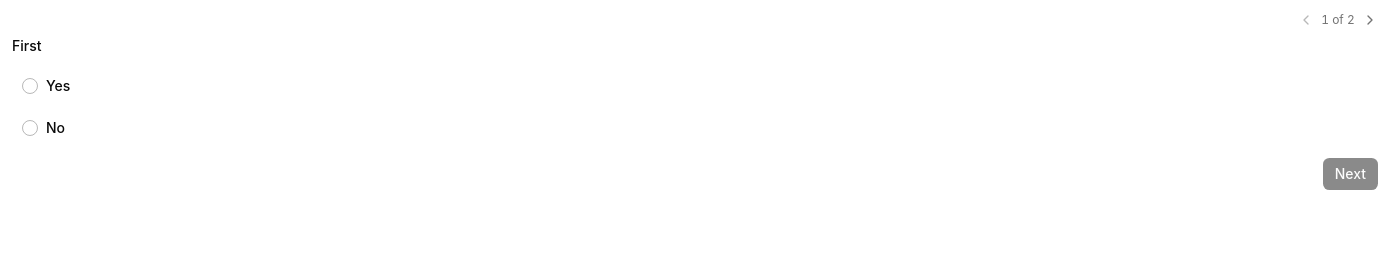
Test case: TaskChatComposer › composer takeovers › single-choice selection stays on the page › clears a missing-answer complaint once that question is answered
The image size is (1390, 253).
Step 1. Click the button named "Next question" → (1370, 20), box [1362,12,1378,28]
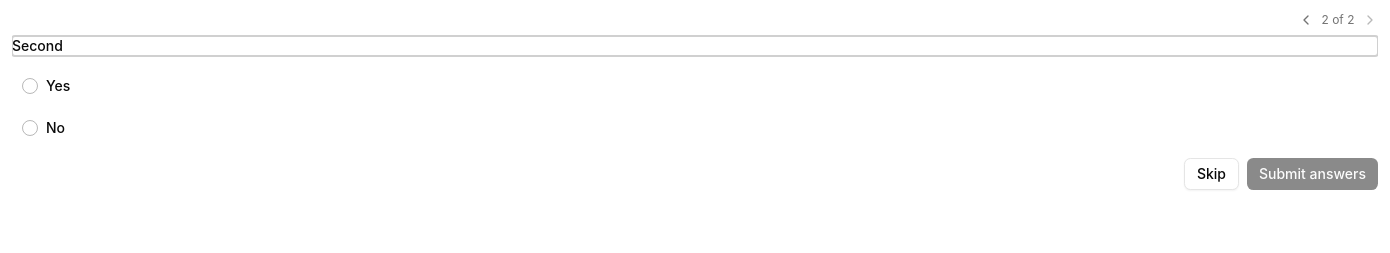
Step 2. Click the button "Skip" → (1211, 174), box [1184,158,1239,190]
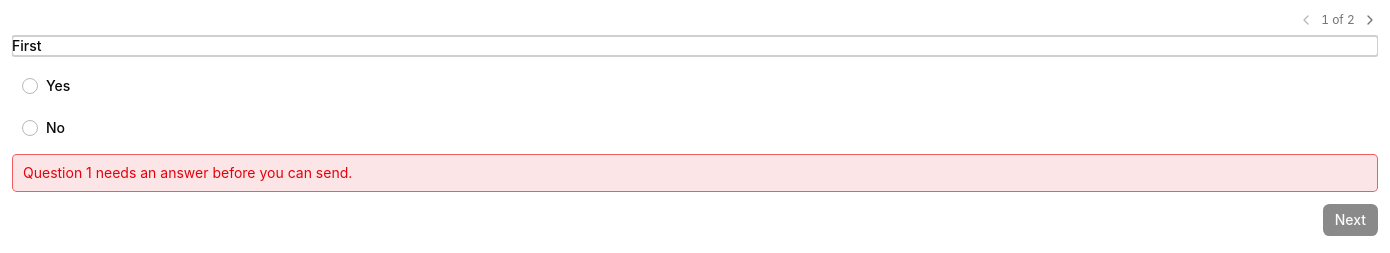
Expected: the text "Question 1 needs an answer" is shown, [23,164,352,181]
Step 3. Click the radio button labelled "Yes" → (30, 86), box [12,68,1378,104]
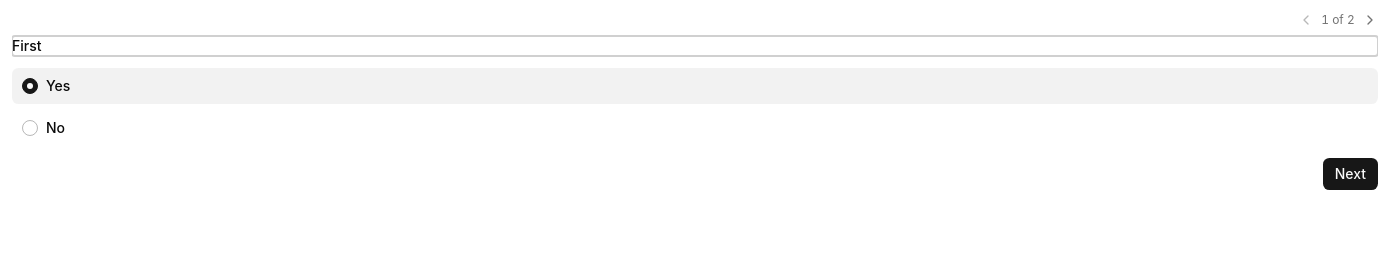
Expected: the text "Question 1 needs an answer" is gone
